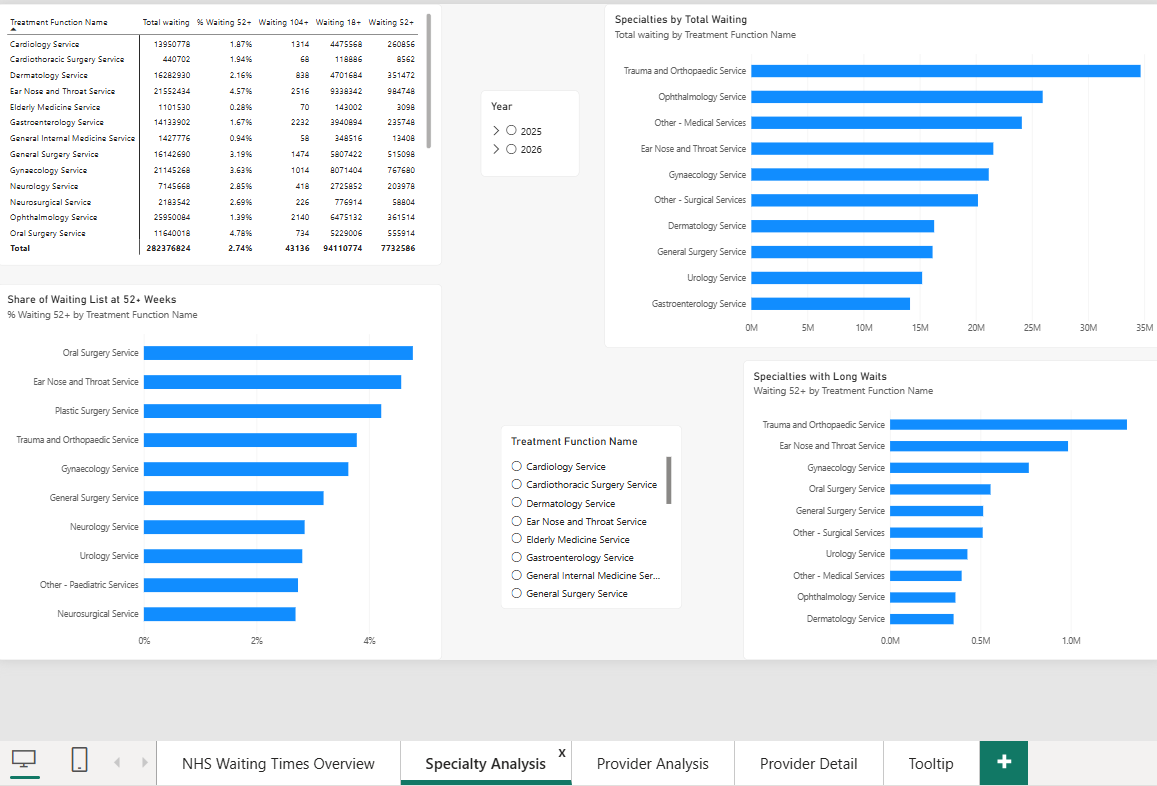

This screenshot's page, from the dashboard's own definition file:
{"tool":"powerbi","page":{"name":"Specialty Analysis","canvas":[1920,1080],"ordinal":1},"visuals":[{"type":"listSlicer","fields":{"Values":["NHS_Waiting_Times_Cleaned.Treatment Function Name"]},"box":[829.5,693.7,298.5,302.6],"z":0},{"type":"listSlicer","fields":{"Values":["NHS_Waiting_Times_Cleaned.Month.Variation.Date Hierarchy.Year","NHS_Waiting_Times_Cleaned.Month.Variation.Date Hierarchy.Quarter","NHS_Waiting_Times_Cleaned.Month.Variation.Date Hierarchy.Month","NHS_Waiting_Times_Cleaned.Month.Variation.Date Hierarchy.Day"]},"box":[796.6,142,162.6,142],"z":1000},{"type":"pivotTable","fields":{"Rows":["NHS_Waiting_Times_Cleaned.Treatment Function Name"],"Values":["NHS_Waiting_Times_Cleaned.Total waiting","NHS_Waiting_Times_Cleaned.% Waiting 52+","NHS_Waiting_Times_Cleaned.Waiting 104+","NHS_Waiting_Times_Cleaned.Waiting 18+","NHS_Waiting_Times_Cleaned.Waiting 52+"]},"box":[0,0,732.8,430.2],"z":2000},{"type":"barChart","title":"Specialties by Total Waiting","fields":{"Category":["NHS_Waiting_Times_Cleaned.Treatment Function Name"],"Y":["NHS_Waiting_Times_Cleaned.Total waiting"]},"box":[1000.3,0,920.1,566],"z":3000},{"type":"barChart","title":"Specialties with Long Waits","fields":{"Category":["NHS_Waiting_Times_Cleaned.Treatment Function Name"],"Y":["NHS_Waiting_Times_Cleaned.Waiting 52+"]},"box":[1228.8,586.6,691.6,494],"z":4000},{"type":"barChart","title":"Share of Waiting List at 52+ Weeks","fields":{"Category":["NHS_Waiting_Times_Cleaned.Treatment Function Name"],"Y":["NHS_Waiting_Times_Cleaned.% Waiting 52+"]},"box":[0,461.1,732.8,619.6],"z":5000}]}

Visuals, with their boxes on the page's 1920x1080 design canvas (x1, y1, x2, y2). These are canvas units, not pixel positions in the 1157x786 screenshot, which may show the page scaled, cropped or inside an application window:
listSlicer - NHS_Waiting_Times_Cleaned.Treatment Function Name: 830 694 1128 996
listSlicer - NHS_Waiting_Times_Cleaned.Month.Variation.Date Hierarchy.Year x NHS_Waiting_Times_Cleaned.Month.Variation.Date Hierarchy.Quarter: 797 142 959 284
pivotTable - NHS_Waiting_Times_Cleaned.Treatment Function Name x NHS_Waiting_Times_Cleaned.Total waiting: 0 0 733 430
"Specialties by Total Waiting" barChart: 1000 0 1920 566
"Specialties with Long Waits" barChart: 1229 587 1920 1081
"Share of Waiting List at 52+ Weeks" barChart: 0 461 733 1081
